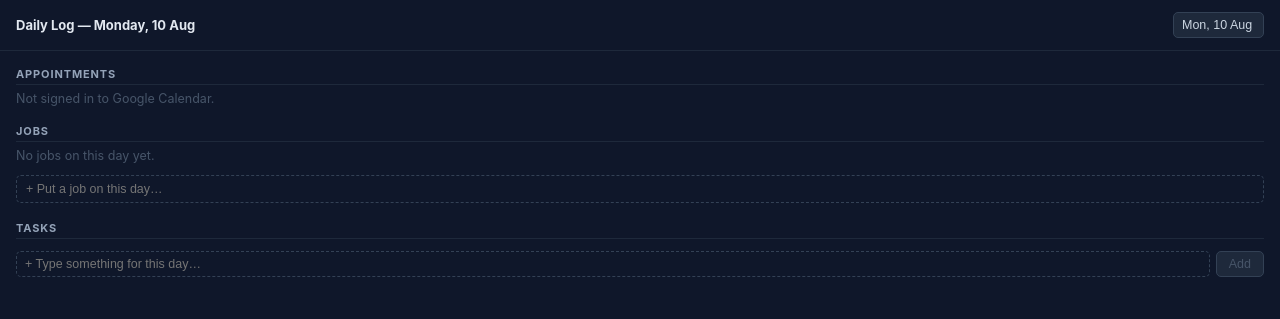
Test: the "+ Put a job on this day…" picker › says so when nothing on the week matches
This screenshot has width=1280, height=319.
Step 1. Type "banjo" into the field named "Search the week" → (640, 189), box [16,175,1264,203]
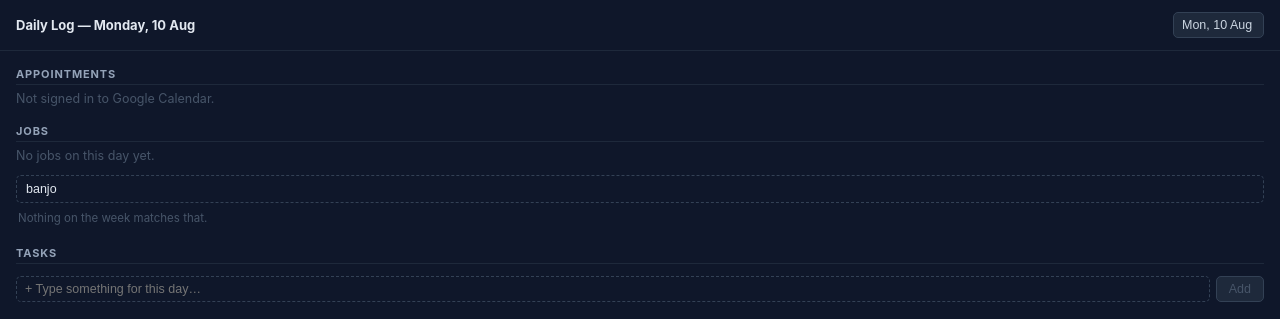
Check: the text "Nothing on the week matches that." is shown, box [18,211,207,225]
